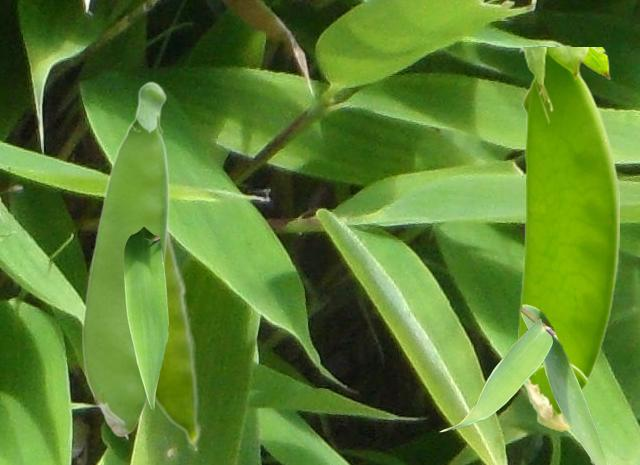pea: (518, 47, 618, 430), (81, 80, 169, 436), (123, 121, 201, 449)
